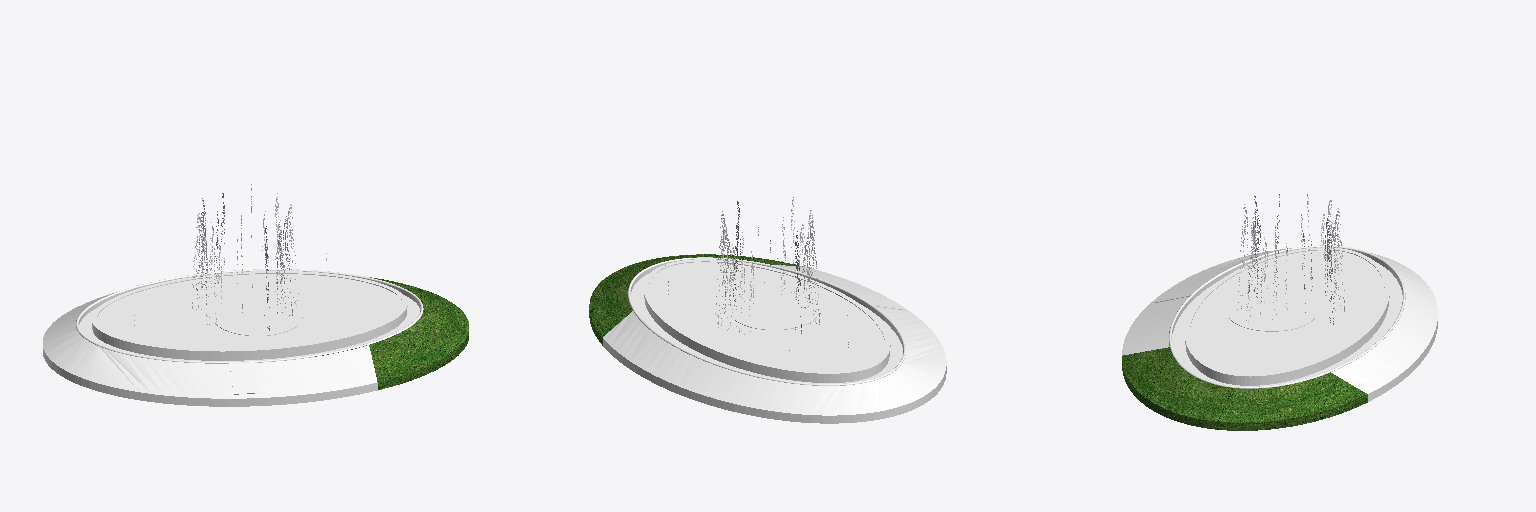
3 renders of one model, left to right at view 1: azimuth 30°, elevation 25°; view 2: azimuth 150°, elevation 25°; view 3: azimuth 270°, elevation 25°, orthographic.
Visible parts, largest first — view 1: Group_003, Group_001; view 2: Group_003, Group_001; view 3: Group_003, Group_001.
Part boxes in pixels (bbox=[...]): Group_003: bbox=[43, 269, 468, 406]; Group_001: bbox=[192, 184, 298, 330]; Group_003: bbox=[589, 254, 946, 423]; Group_001: bbox=[715, 197, 820, 334]; Group_003: bbox=[1122, 245, 1437, 430]; Group_001: bbox=[1237, 194, 1344, 324].
Size of the model in its own units: 1842 by 850 by 1400.
11 materials, 2 textured.